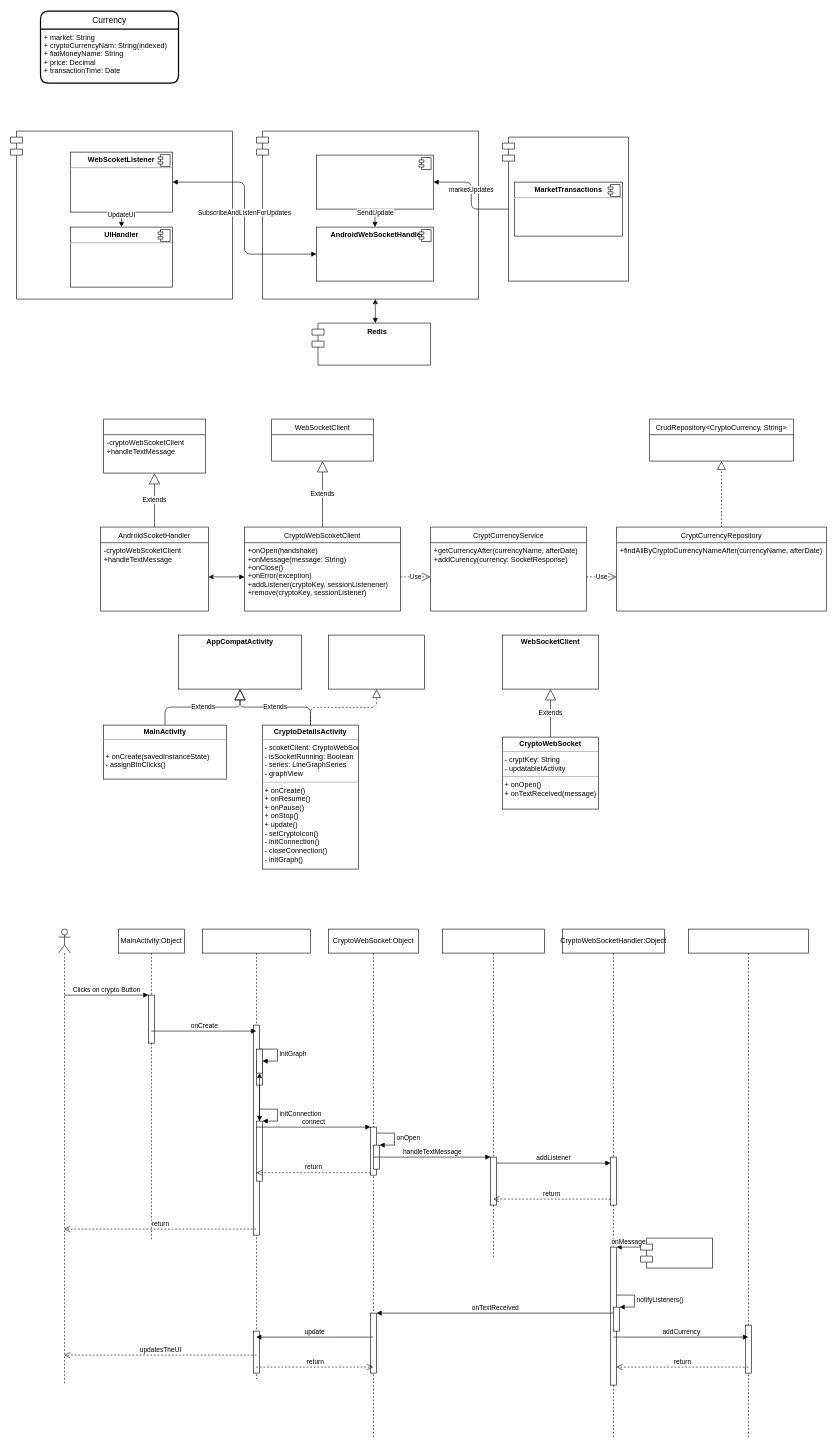
This 837x1450 diagram has some shape labels left out. Here are the shapes that lost their labels. From the top down, the box of each, then its label:
(316, 154, 434, 209): MarketWebSocketClient
(10, 130, 232, 299): Android Client
(256, 130, 478, 299): Proxy Server
(502, 136, 628, 281): External Market Server
(103, 418, 206, 473): AbstractWebSocketHandler
(328, 634, 424, 689): UpdateableActivity + update(data: CryptoDto)
(442, 928, 544, 1259): AndroidSocketHandler:Object
(202, 928, 310, 1379): CryptoDetailsActivity:Object
(688, 928, 808, 1439): CryptoCurrencyService:Object
(640, 1238, 712, 1268): Market Update
